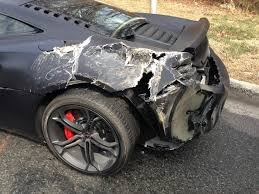Smashed: (34, 37, 213, 153)
